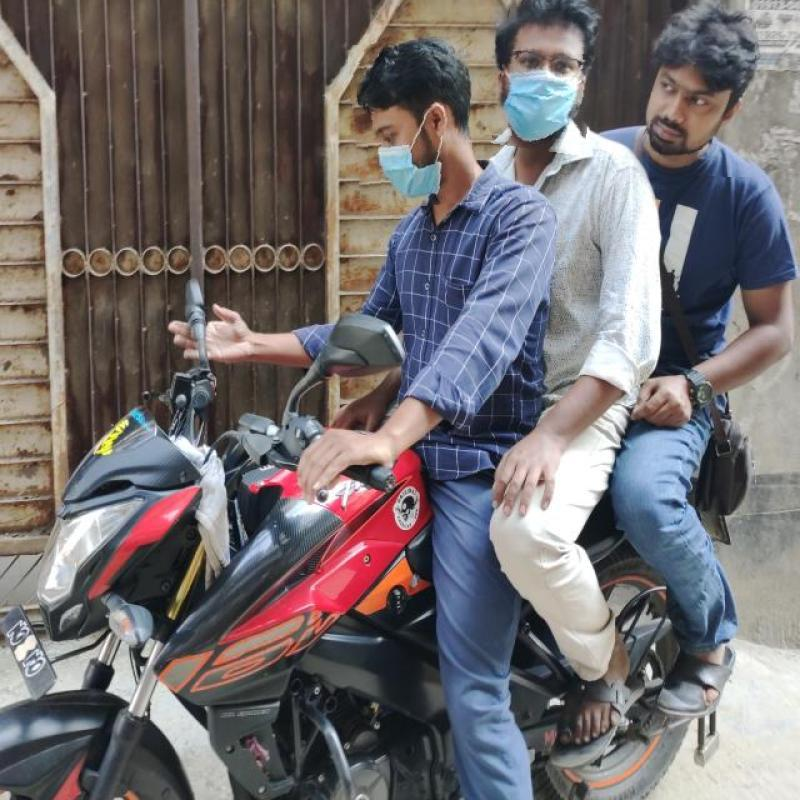nohelmet: (351, 38, 474, 209), (650, 8, 756, 177), (496, 0, 598, 153)
